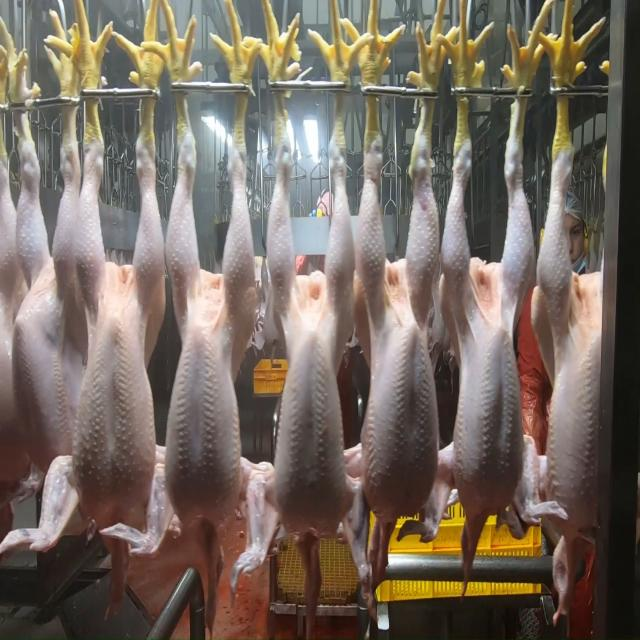chicken: (353, 124, 445, 554), (165, 118, 253, 547), (76, 121, 166, 538), (269, 110, 352, 546), (445, 126, 527, 518), (540, 128, 613, 532), (19, 118, 82, 544)
